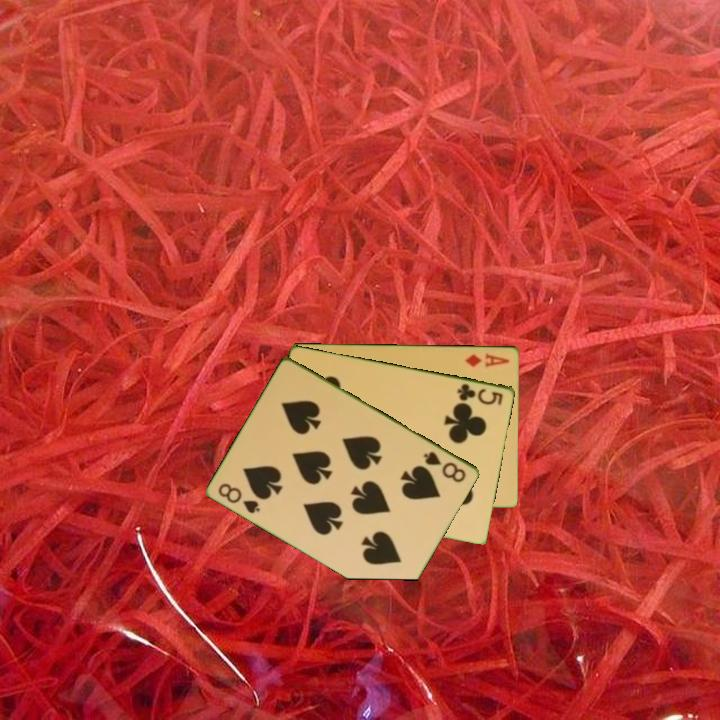5c: (454, 380, 506, 408)
8s: (420, 448, 469, 485), (215, 479, 263, 516)
Ad: (462, 349, 512, 370)
